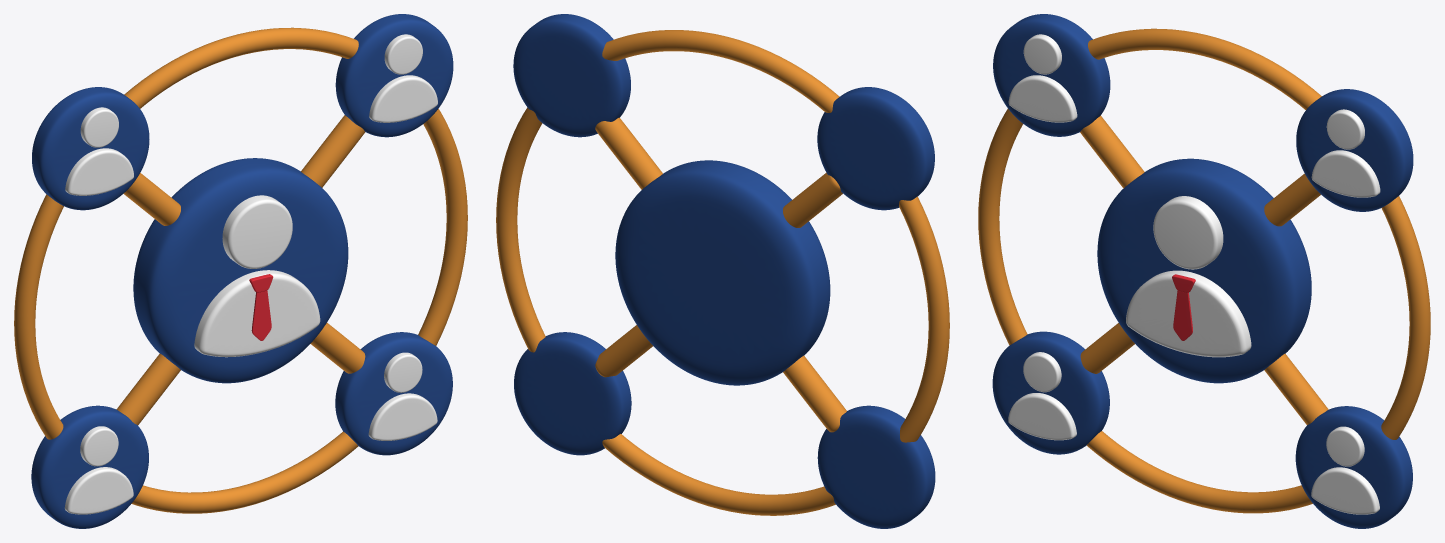
3 views of the same model, side by side, from view 1: azimuth 30°, elevation 25°; view 2: azimuth 150°, elevation 25°; view 3: azimuth 330°, elevation 25° (orthographic).
Visible parts, largest first — view 1: Cylinder.002, Circle, Cylinder.008, Cylinder.007, Cylinder.005, Cylinder.006, Cylinder.001, Cylinder.004, Cylinder, Cylinder.003; view 2: Cylinder.002, Circle, Cylinder.008, Cylinder.007, Cylinder.005, Cylinder.006, Cylinder.001, Cylinder.004, Cylinder, Cylinder.003; view 3: Cylinder.002, Circle, Cylinder.005, Cylinder.006, Cylinder.008, Cylinder.007, Cylinder, Cylinder.003, Cylinder.001, Cylinder.004.
Boxes of the visible parts, bbox=[...] form: Cylinder.002: bbox=[133, 158, 348, 383]; Circle: bbox=[14, 27, 467, 513]; Cylinder.008: bbox=[32, 87, 149, 210]; Cylinder.007: bbox=[31, 405, 148, 528]; Cylinder.005: bbox=[335, 14, 453, 137]; Cylinder.006: bbox=[335, 332, 452, 455]; Cylinder.001: bbox=[301, 115, 365, 187]; Cylinder.004: bbox=[116, 353, 180, 424]; Cylinder: bbox=[123, 173, 180, 225]; Cylinder.003: bbox=[310, 323, 365, 373]; Cylinder.002: bbox=[615, 160, 830, 385]; Circle: bbox=[496, 30, 949, 515]; Cylinder.008: bbox=[817, 87, 934, 210]; Cylinder.007: bbox=[817, 405, 935, 528]; Cylinder.005: bbox=[513, 14, 630, 137]; Cylinder.006: bbox=[514, 332, 631, 455]; Cylinder.001: bbox=[595, 117, 662, 189]; Cylinder.004: bbox=[783, 355, 846, 432]; Cylinder: bbox=[783, 172, 842, 227]; Cylinder.003: bbox=[595, 325, 652, 377]; Cylinder.002: bbox=[1097, 158, 1311, 383]; Circle: bbox=[978, 28, 1430, 513]; Cylinder.005: bbox=[1296, 89, 1413, 211]; Cylinder.006: bbox=[1295, 406, 1412, 528]; Cylinder.008: bbox=[993, 14, 1110, 136]; Cylinder.007: bbox=[992, 331, 1109, 454]; Cylinder: bbox=[1080, 115, 1144, 188]; Cylinder.003: bbox=[1264, 353, 1328, 424]; Cylinder.001: bbox=[1264, 173, 1320, 226]; Cylinder.004: bbox=[1080, 323, 1134, 373].
Bounding box in the file's own units: 5.5 × 5.5 × 0.7551.
